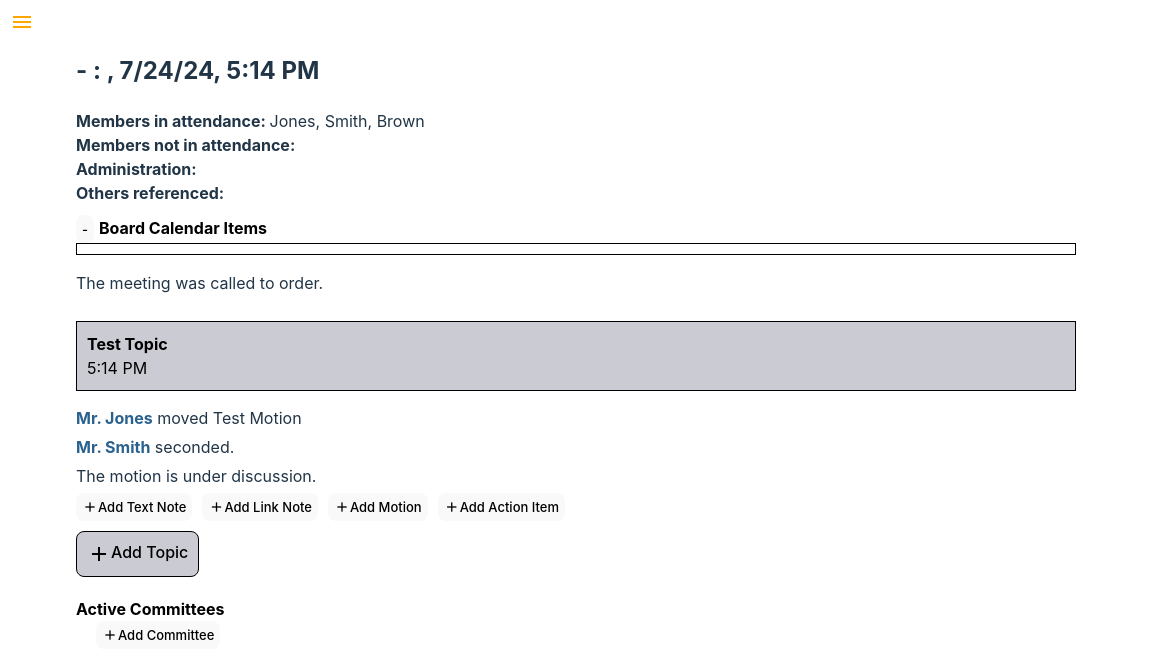
it: motions › allows editing the mover of the motion
Hover over the text "Mr. Jones" at (89, 418), box [76, 408, 153, 428]
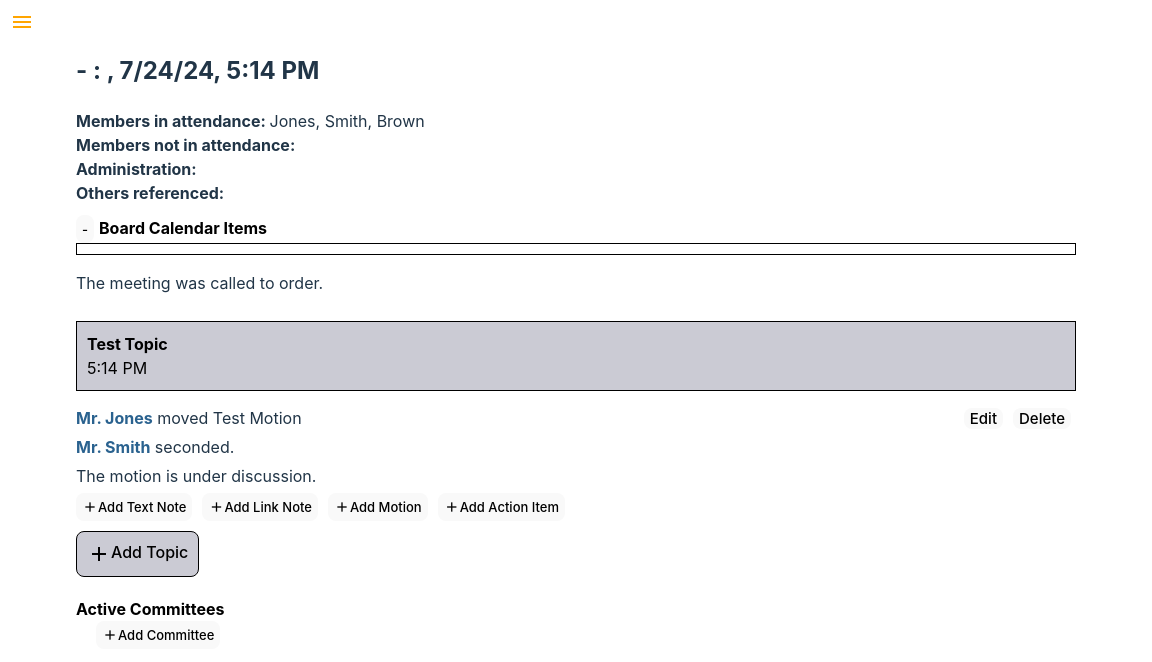
Click the button "Edit". click: (983, 419)
box: [964, 408, 1003, 429]
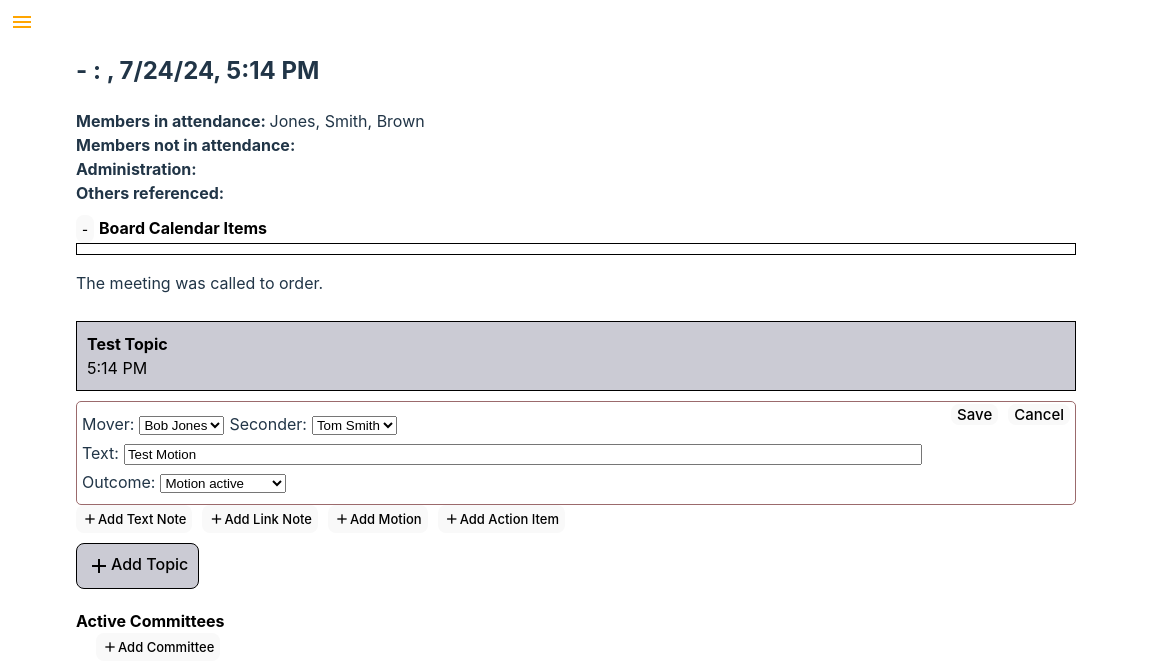
Select "Joe Brown" in the dropdown labelled "Mover:". click: (182, 426)
box: [139, 416, 224, 435]
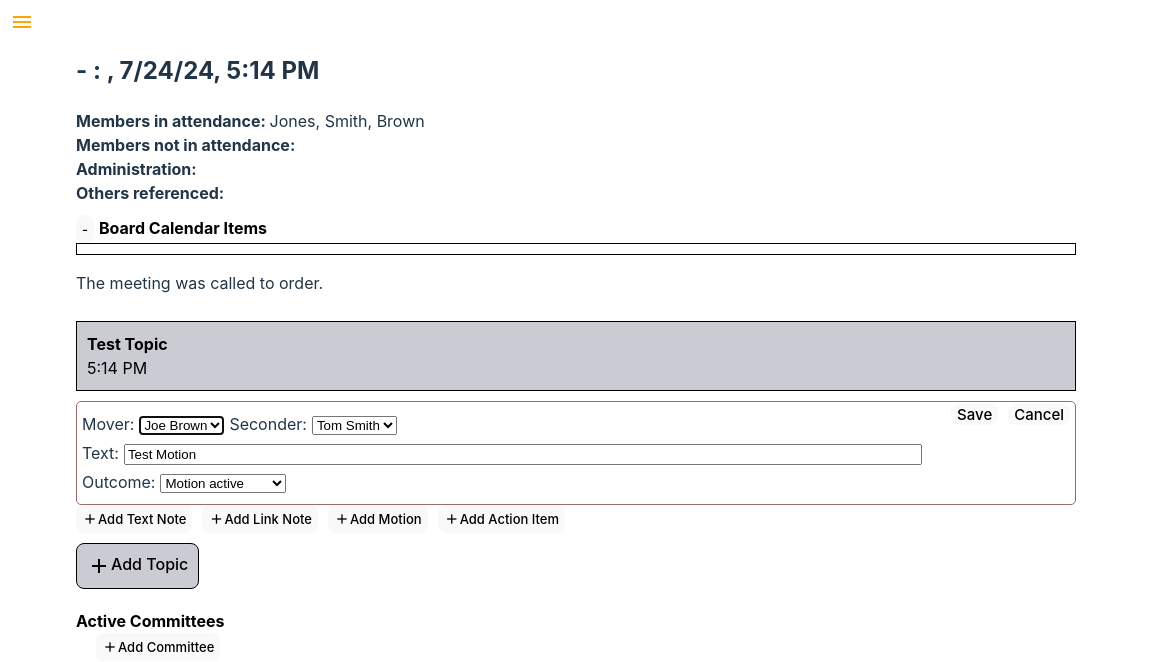
Click the button "Save". click: (975, 415)
box: [951, 404, 998, 425]
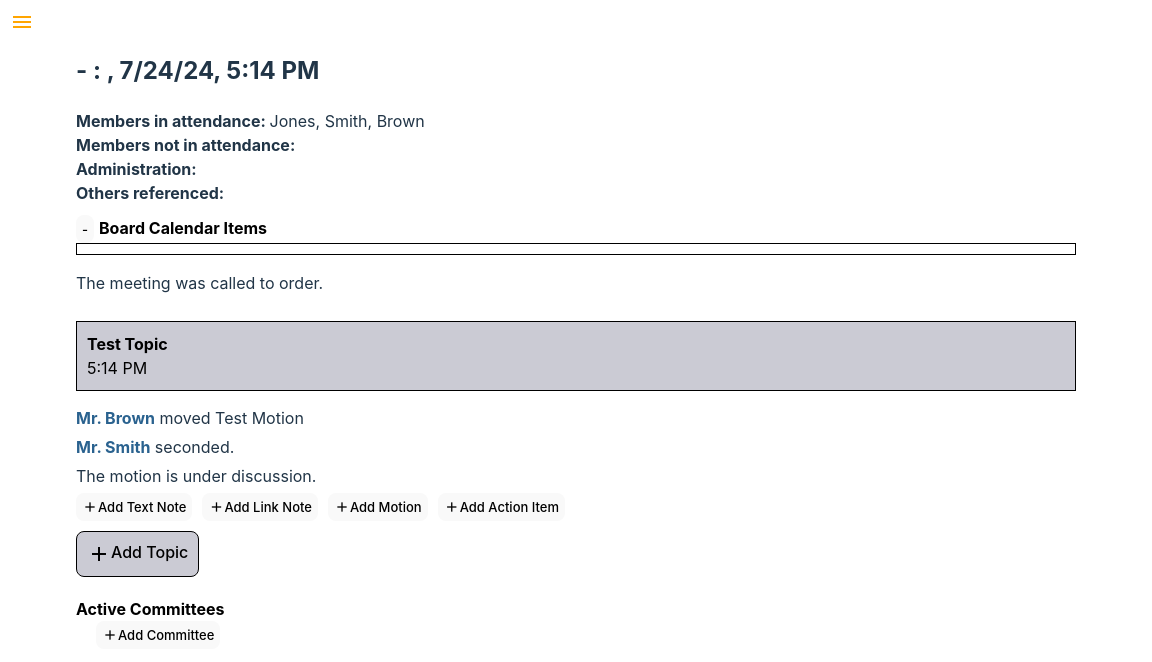
Expected: the text "Mr. Brown" is shown, [76, 408, 155, 428]
